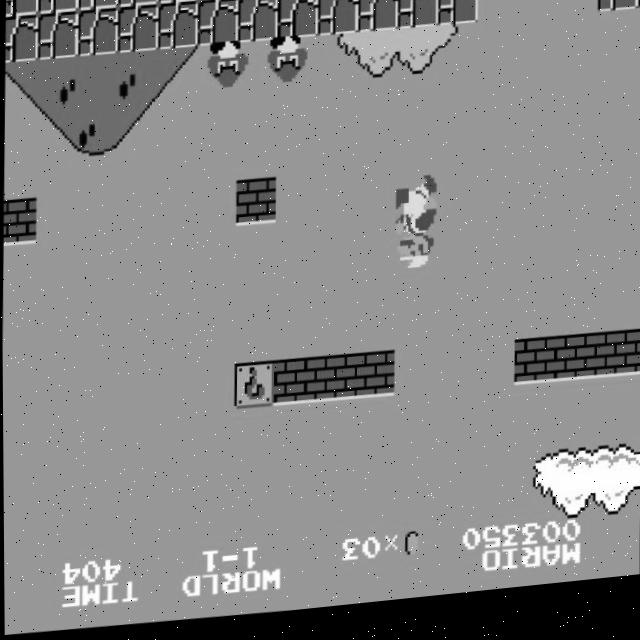1- brick_block: (592, 342, 635, 391), (552, 345, 595, 394), (512, 347, 555, 396), (352, 358, 395, 407), (312, 360, 355, 409), (272, 363, 315, 412), (234, 182, 276, 232), (2, 197, 36, 247), (633, 342, 640, 388)
13- mystery_block: (232, 365, 275, 415)
17- undestructible_block: (157, 3, 199, 54), (77, 8, 119, 59), (37, 11, 79, 62), (197, 1, 239, 51), (117, 6, 159, 56), (237, 0, 279, 49), (277, 0, 319, 46), (317, 0, 359, 44), (357, 0, 399, 41), (5, 14, 39, 64), (397, 0, 439, 38), (437, 0, 479, 36), (596, 0, 638, 25), (37, 0, 78, 16), (5, 0, 38, 18), (77, 0, 118, 13), (117, 0, 158, 10), (157, 0, 198, 8), (197, 0, 238, 5), (237, 0, 278, 3), (637, 0, 640, 22), (277, 0, 318, 0)
4- fire_mario: (393, 182, 439, 281)
8- goomba: (206, 43, 251, 97), (266, 39, 310, 93)
